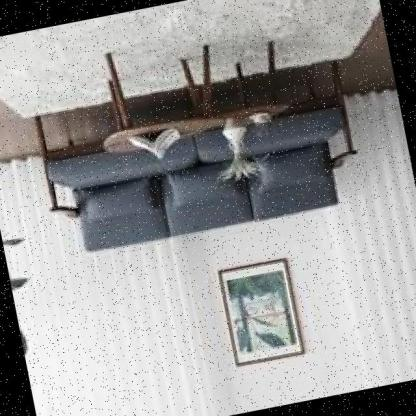Sofa: (8, 30, 400, 276)
